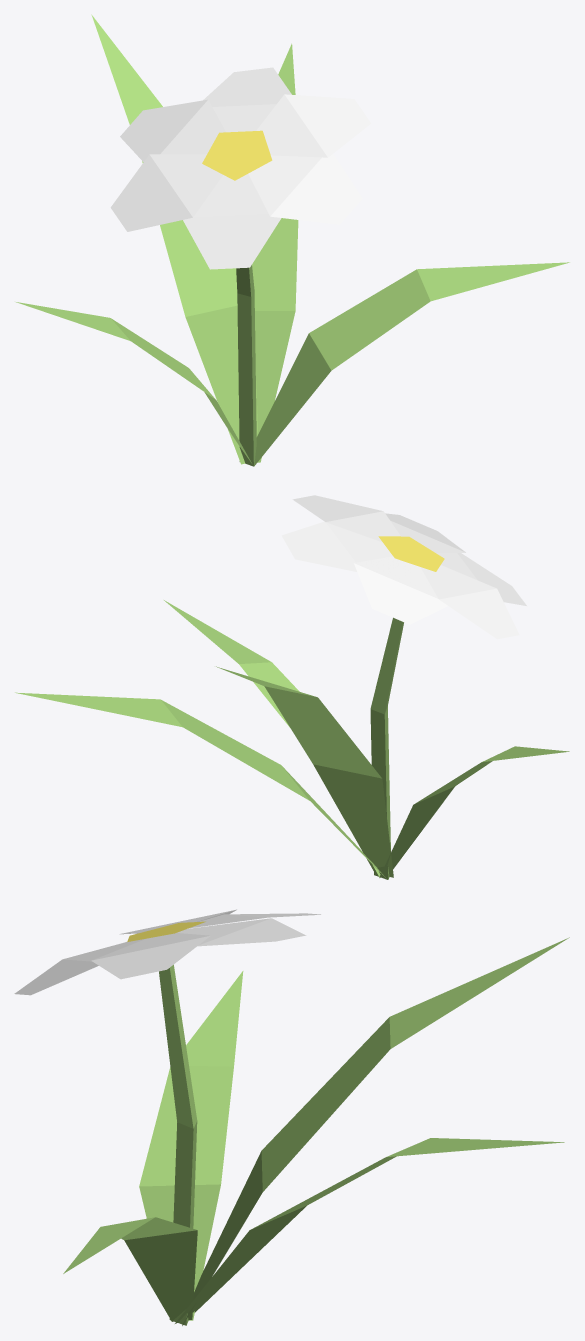
Rendered from Flower_e_OneS_09.fbx.
3 views of the same model, one above another, from view 1: azimuth 30°, elevation 25°; view 2: azimuth 150°, elevation 25°; view 3: azimuth 270°, elevation 25° (orthographic). The views are drawn at different scales.
Parts seen in each view (by area): view 1: Flower_e_OneS_09; view 2: Flower_e_OneS_09; view 3: Flower_e_OneS_09.
Part boxes in pixels (x1,y1,x2,y2): Flower_e_OneS_09: (16, 14, 569, 466); Flower_e_OneS_09: (15, 495, 569, 879); Flower_e_OneS_09: (14, 909, 569, 1325).
Size of the model in its own units: 41.88 by 29.29 by 35.48.
